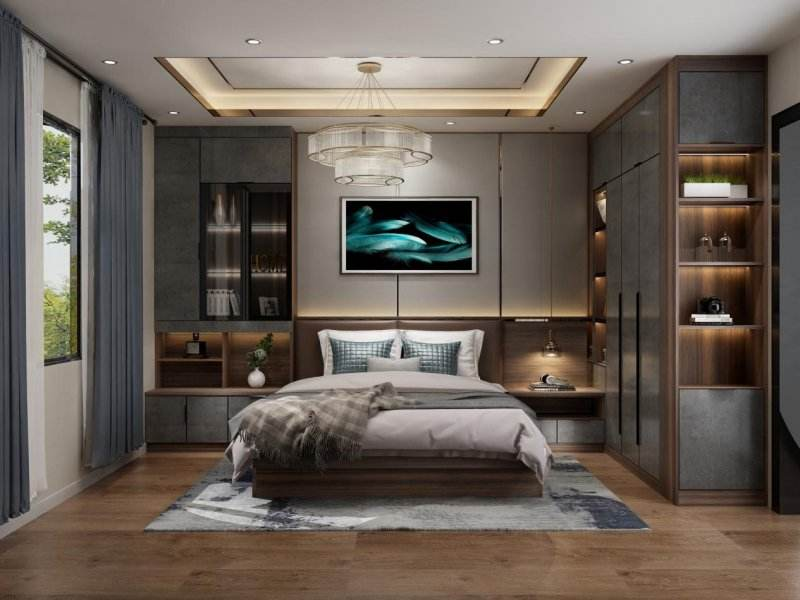床: (228, 377, 543, 506)
枕头: (321, 329, 482, 380)
灯: (305, 58, 433, 196), (534, 318, 566, 361), (489, 34, 513, 48), (241, 36, 266, 48), (619, 55, 640, 69), (99, 56, 119, 69), (443, 118, 463, 129), (572, 107, 588, 120), (165, 109, 182, 119)
